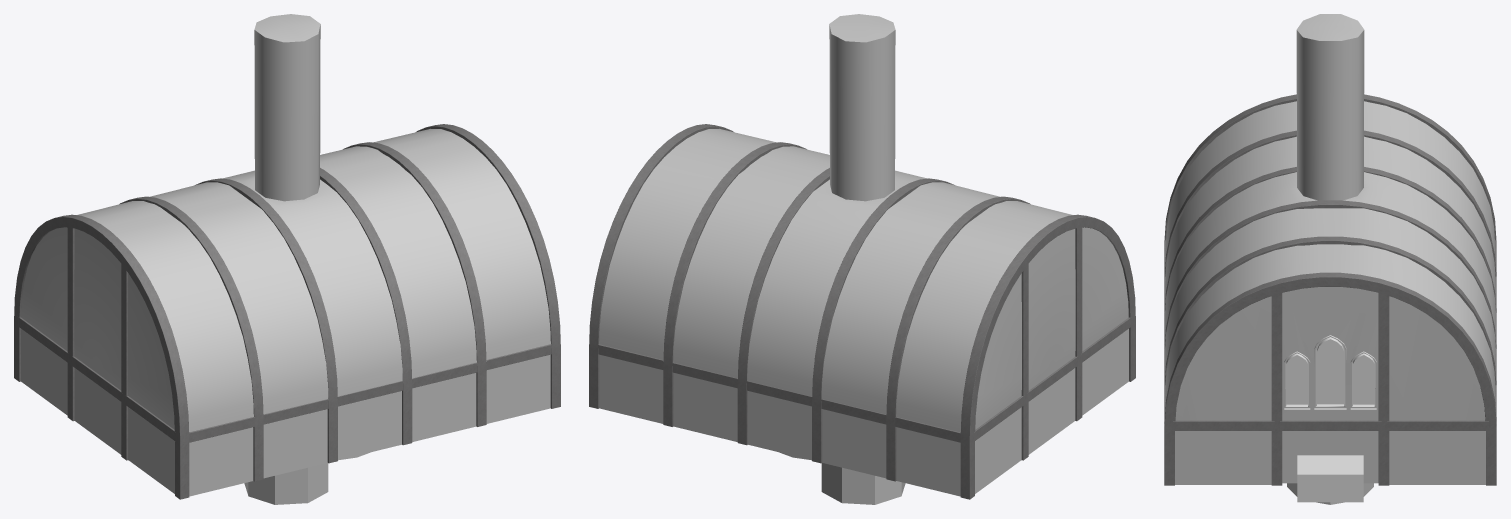
File: Level_Geo_1.fbx
The picture shows the model from 3 angles, left to right: view 1: azimuth 30°, elevation 25°; view 2: azimuth 150°, elevation 25°; view 3: azimuth 270°, elevation 25°; orthographic projection.
Visible parts, largest first — view 1: CeilingFloorStone_UVd, SteelBeams_UVd, BrickWalls_UVd; view 2: CeilingFloorStone_UVd, SteelBeams_UVd, BrickWalls_UVd; view 3: CeilingFloorStone_UVd, SteelBeams_UVd, BrickWalls_UVd, WindowBig_UVd, EntranceWalls, WindowFrames_UVd.
Boxes of the visible parts, x1,y1,x2,y2 form: CeilingFloorStone_UVd: [21, 14, 550, 504]; SteelBeams_UVd: [14, 124, 560, 499]; BrickWalls_UVd: [21, 329, 550, 496]; CeilingFloorStone_UVd: [599, 14, 1128, 504]; SteelBeams_UVd: [589, 124, 1135, 499]; BrickWalls_UVd: [599, 329, 1128, 496]; CeilingFloorStone_UVd: [1165, 14, 1495, 504]; SteelBeams_UVd: [1164, 94, 1496, 485]; BrickWalls_UVd: [1175, 431, 1485, 484]; WindowBig_UVd: [1285, 339, 1375, 405]; EntranceWalls: [1297, 455, 1363, 502]; WindowFrames_UVd: [1284, 335, 1376, 409].
Size of the model in its own units: 8936 by 9492 by 6200.
